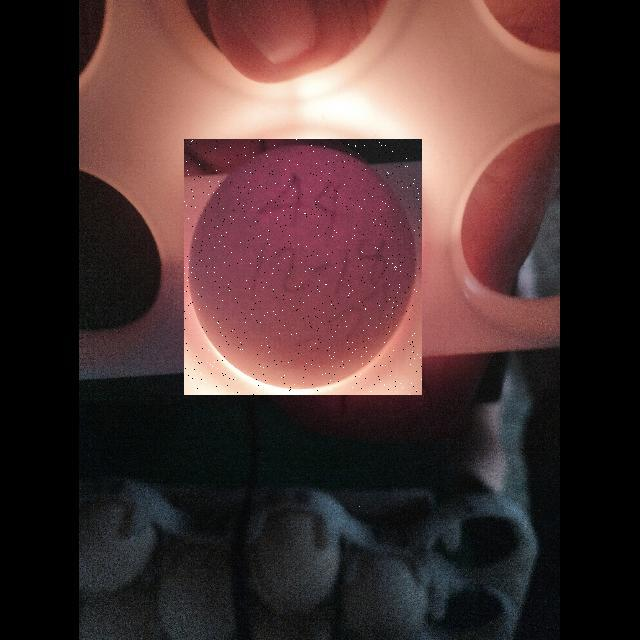Infertile: (184, 139, 422, 395)
